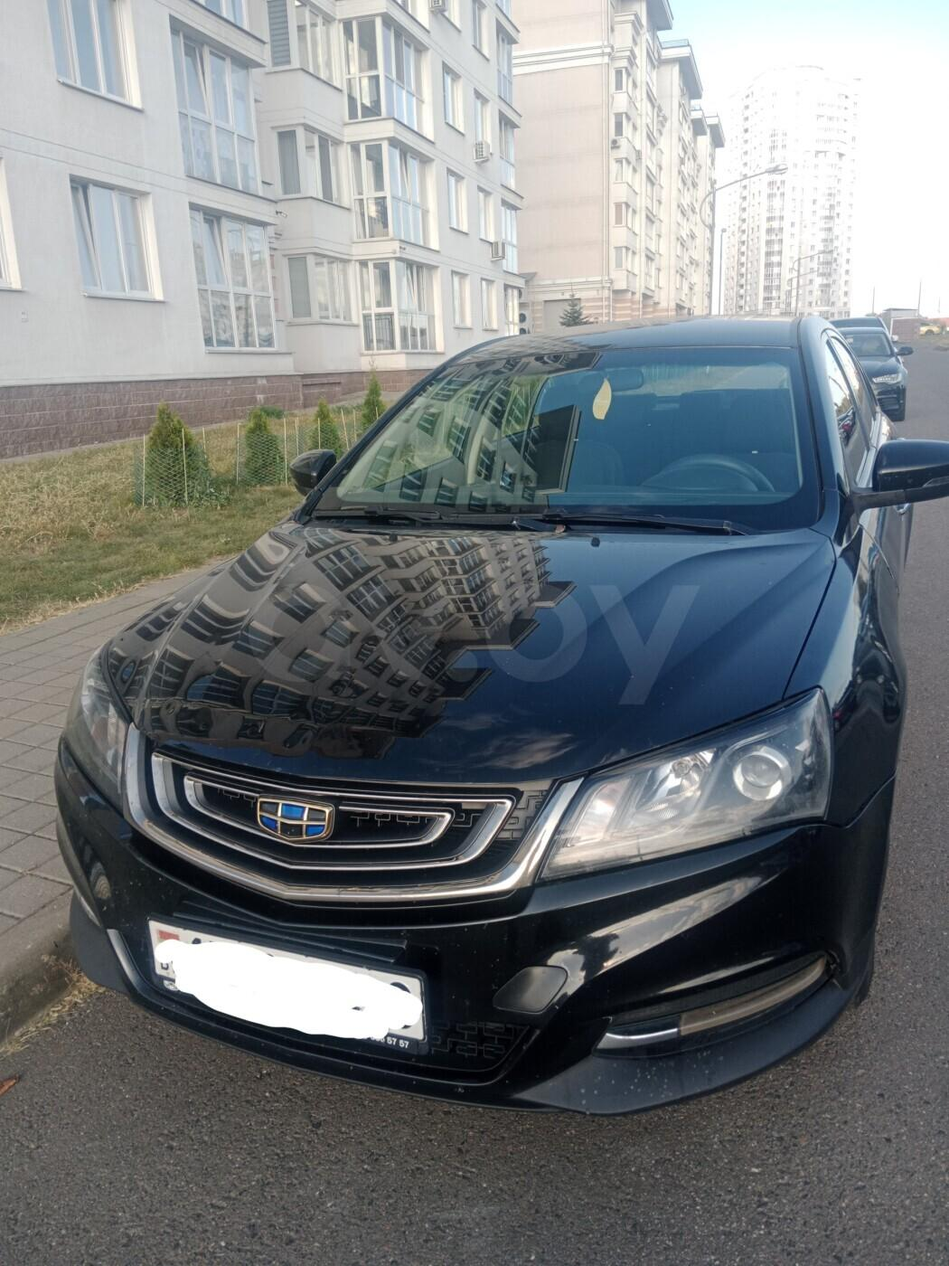Emgrand_2019-2021: (53, 316, 948, 1114)
